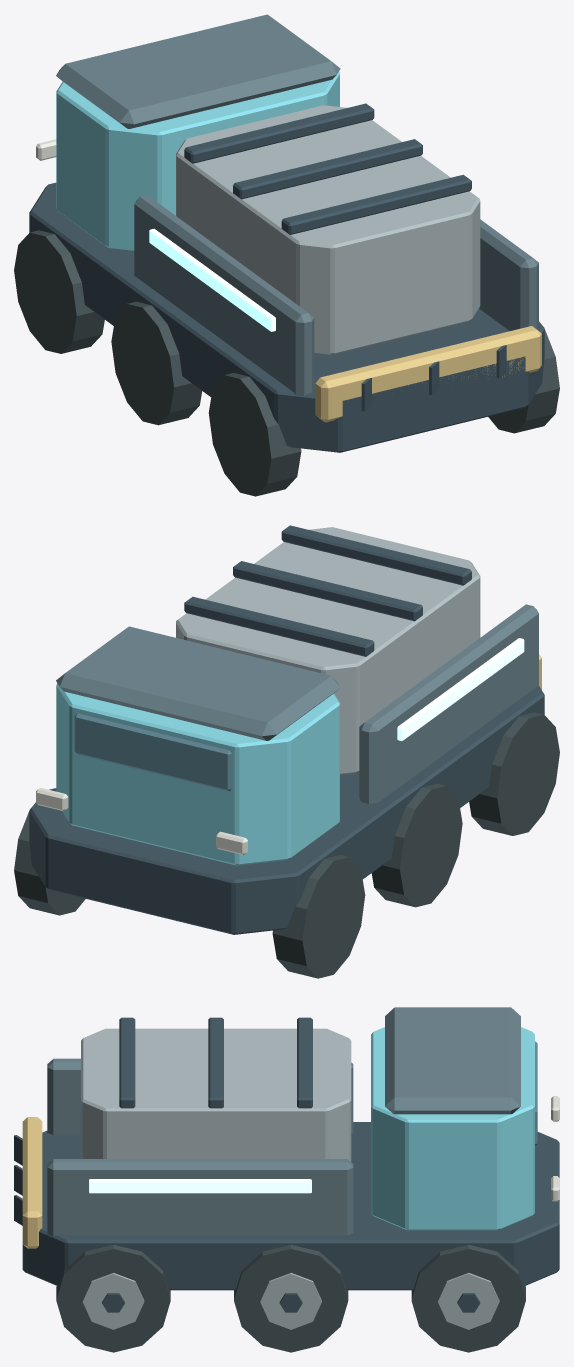
The model's file is transport.glb.
The picture shows the model from 3 angles, top to bottom: view 1: azimuth 30°, elevation 25°; view 2: azimuth 150°, elevation 25°; view 3: azimuth 270°, elevation 25°; orthographic projection. The views are drawn at different scales.
Parts seen in each view (by area): view 1: core, asset_transport__FP_Armour, asset_transport__FP_Dark, cab, energy_container__FP_Dark, tire.002, tire.001, tire, cargo_lock, tire.005, asset_transport__FP_Signal; view 2: asset_transport__FP_Armour, cab, asset_transport__FP_Dark, core, energy_container__FP_Dark, tire, tire.001, tire.002, windscreen, tire.003, asset_transport__FP_Signal, asset_transport__FP_Ivory; view 3: asset_transport__FP_Armour, core, asset_transport__FP_Dark, cab, tire.003, tire.005, tire.004, energy_container__FP_Dark, asset_transport__FP_Signal, cargo_lock, hub.005, hub.004 (+2 smaller).
Boxes of the visible parts, x1=… form: core: x1=176, y1=105, x2=480, y2=354; asset_transport__FP_Armour: x1=56, y1=14, x2=538, y2=396; asset_transport__FP_Dark: x1=29, y1=182, x2=544, y2=452; cab: x1=56, y1=71, x2=339, y2=250; energy_container__FP_Dark: x1=184, y1=103, x2=471, y2=234; tire.002: x1=208, y1=373, x2=301, y2=496; tire.001: x1=111, y1=301, x2=202, y2=425; tire: x1=14, y1=230, x2=104, y2=353; cargo_lock: x1=315, y1=326, x2=541, y2=422; tire.005: x1=488, y1=321, x2=559, y2=433; asset_transport__FP_Signal: x1=149, y1=228, x2=275, y2=331; asset_transport__FP_Armour: x1=56, y1=604, x2=538, y2=803; cab: x1=56, y1=683, x2=339, y2=865; asset_transport__FP_Dark: x1=29, y1=686, x2=544, y2=934; core: x1=176, y1=527, x2=480, y2=774; energy_container__FP_Dark: x1=184, y1=525, x2=471, y2=656; tire: x1=272, y1=855, x2=365, y2=978; tire.001: x1=371, y1=783, x2=462, y2=907; tire.002: x1=469, y1=712, x2=559, y2=835; windscreen: x1=74, y1=713, x2=231, y2=791; tire.003: x1=14, y1=788, x2=85, y2=915; asset_transport__FP_Signal: x1=397, y1=638, x2=524, y2=740; asset_transport__FP_Ivory: x1=36, y1=788, x2=247, y2=854; asset_transport__FP_Armour: x1=47, y1=1007, x2=520, y2=1236; core: x1=81, y1=1028, x2=351, y2=1161; asset_transport__FP_Dark: x1=14, y1=1122, x2=559, y2=1290; cab: x1=371, y1=1027, x2=534, y2=1230; tire.003: x1=411, y1=1244, x2=525, y2=1352; tire.005: x1=56, y1=1245, x2=170, y2=1352; tire.004: x1=234, y1=1245, x2=348, y2=1352; energy_container__FP_Dark: x1=119, y1=1017, x2=312, y2=1108; asset_transport__FP_Signal: x1=89, y1=1179, x2=311, y2=1193; cargo_lock: x1=22, y1=1117, x2=42, y2=1248; hub.005: x1=82, y1=1273, x2=144, y2=1329; hub.004: x1=260, y1=1273, x2=321, y2=1329.
Size of the model in its own units: 1.57 by 1.32 by 2.77.
